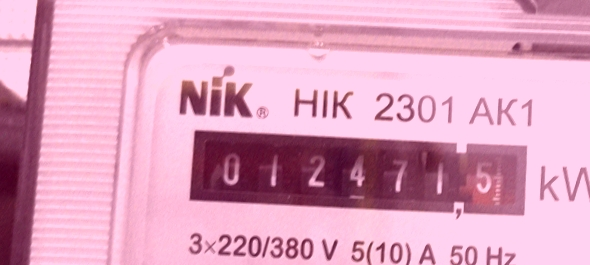0: (217, 149, 242, 187)
1: (265, 152, 280, 188), (431, 159, 444, 196)
2: (304, 152, 327, 189)
4: (346, 151, 367, 189)
5: (471, 157, 495, 196)
7: (385, 155, 408, 195)
screen: (176, 112, 540, 233)
